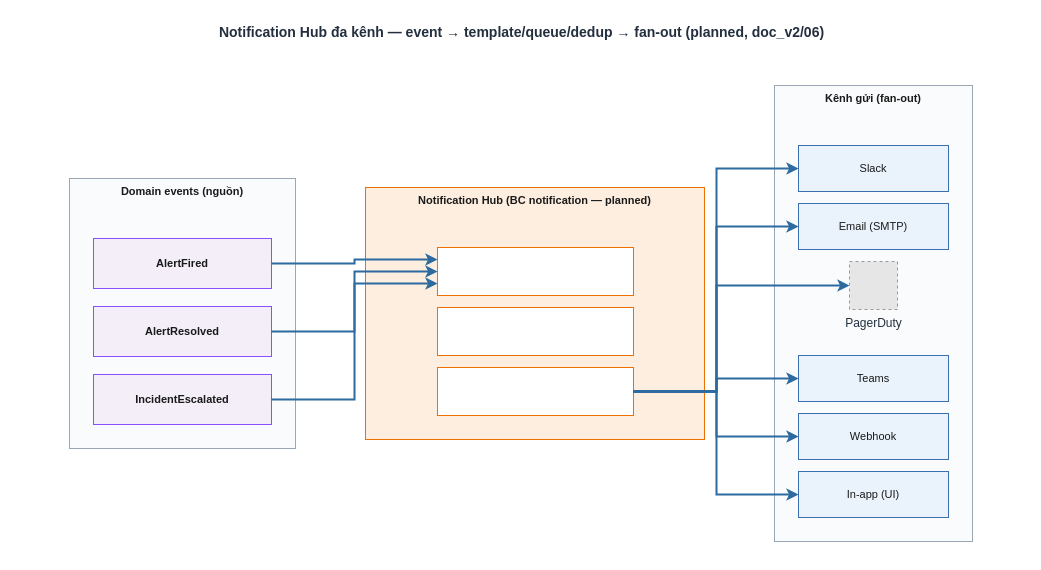
Some shapes in this 1041 by 570 pixel diagram are drawn without their labels. Grey dashed boxes stand in for pictures. Each missing label, with the centre of its shape:
"Dedup / idempotency (group, rate-limit)" goes at (x=535, y=391).
"Queue: Redis Streams worker + retry (at-least-once)" goes at (x=535, y=331).
"Template engine (render theo kênh)" goes at (x=535, y=271).
